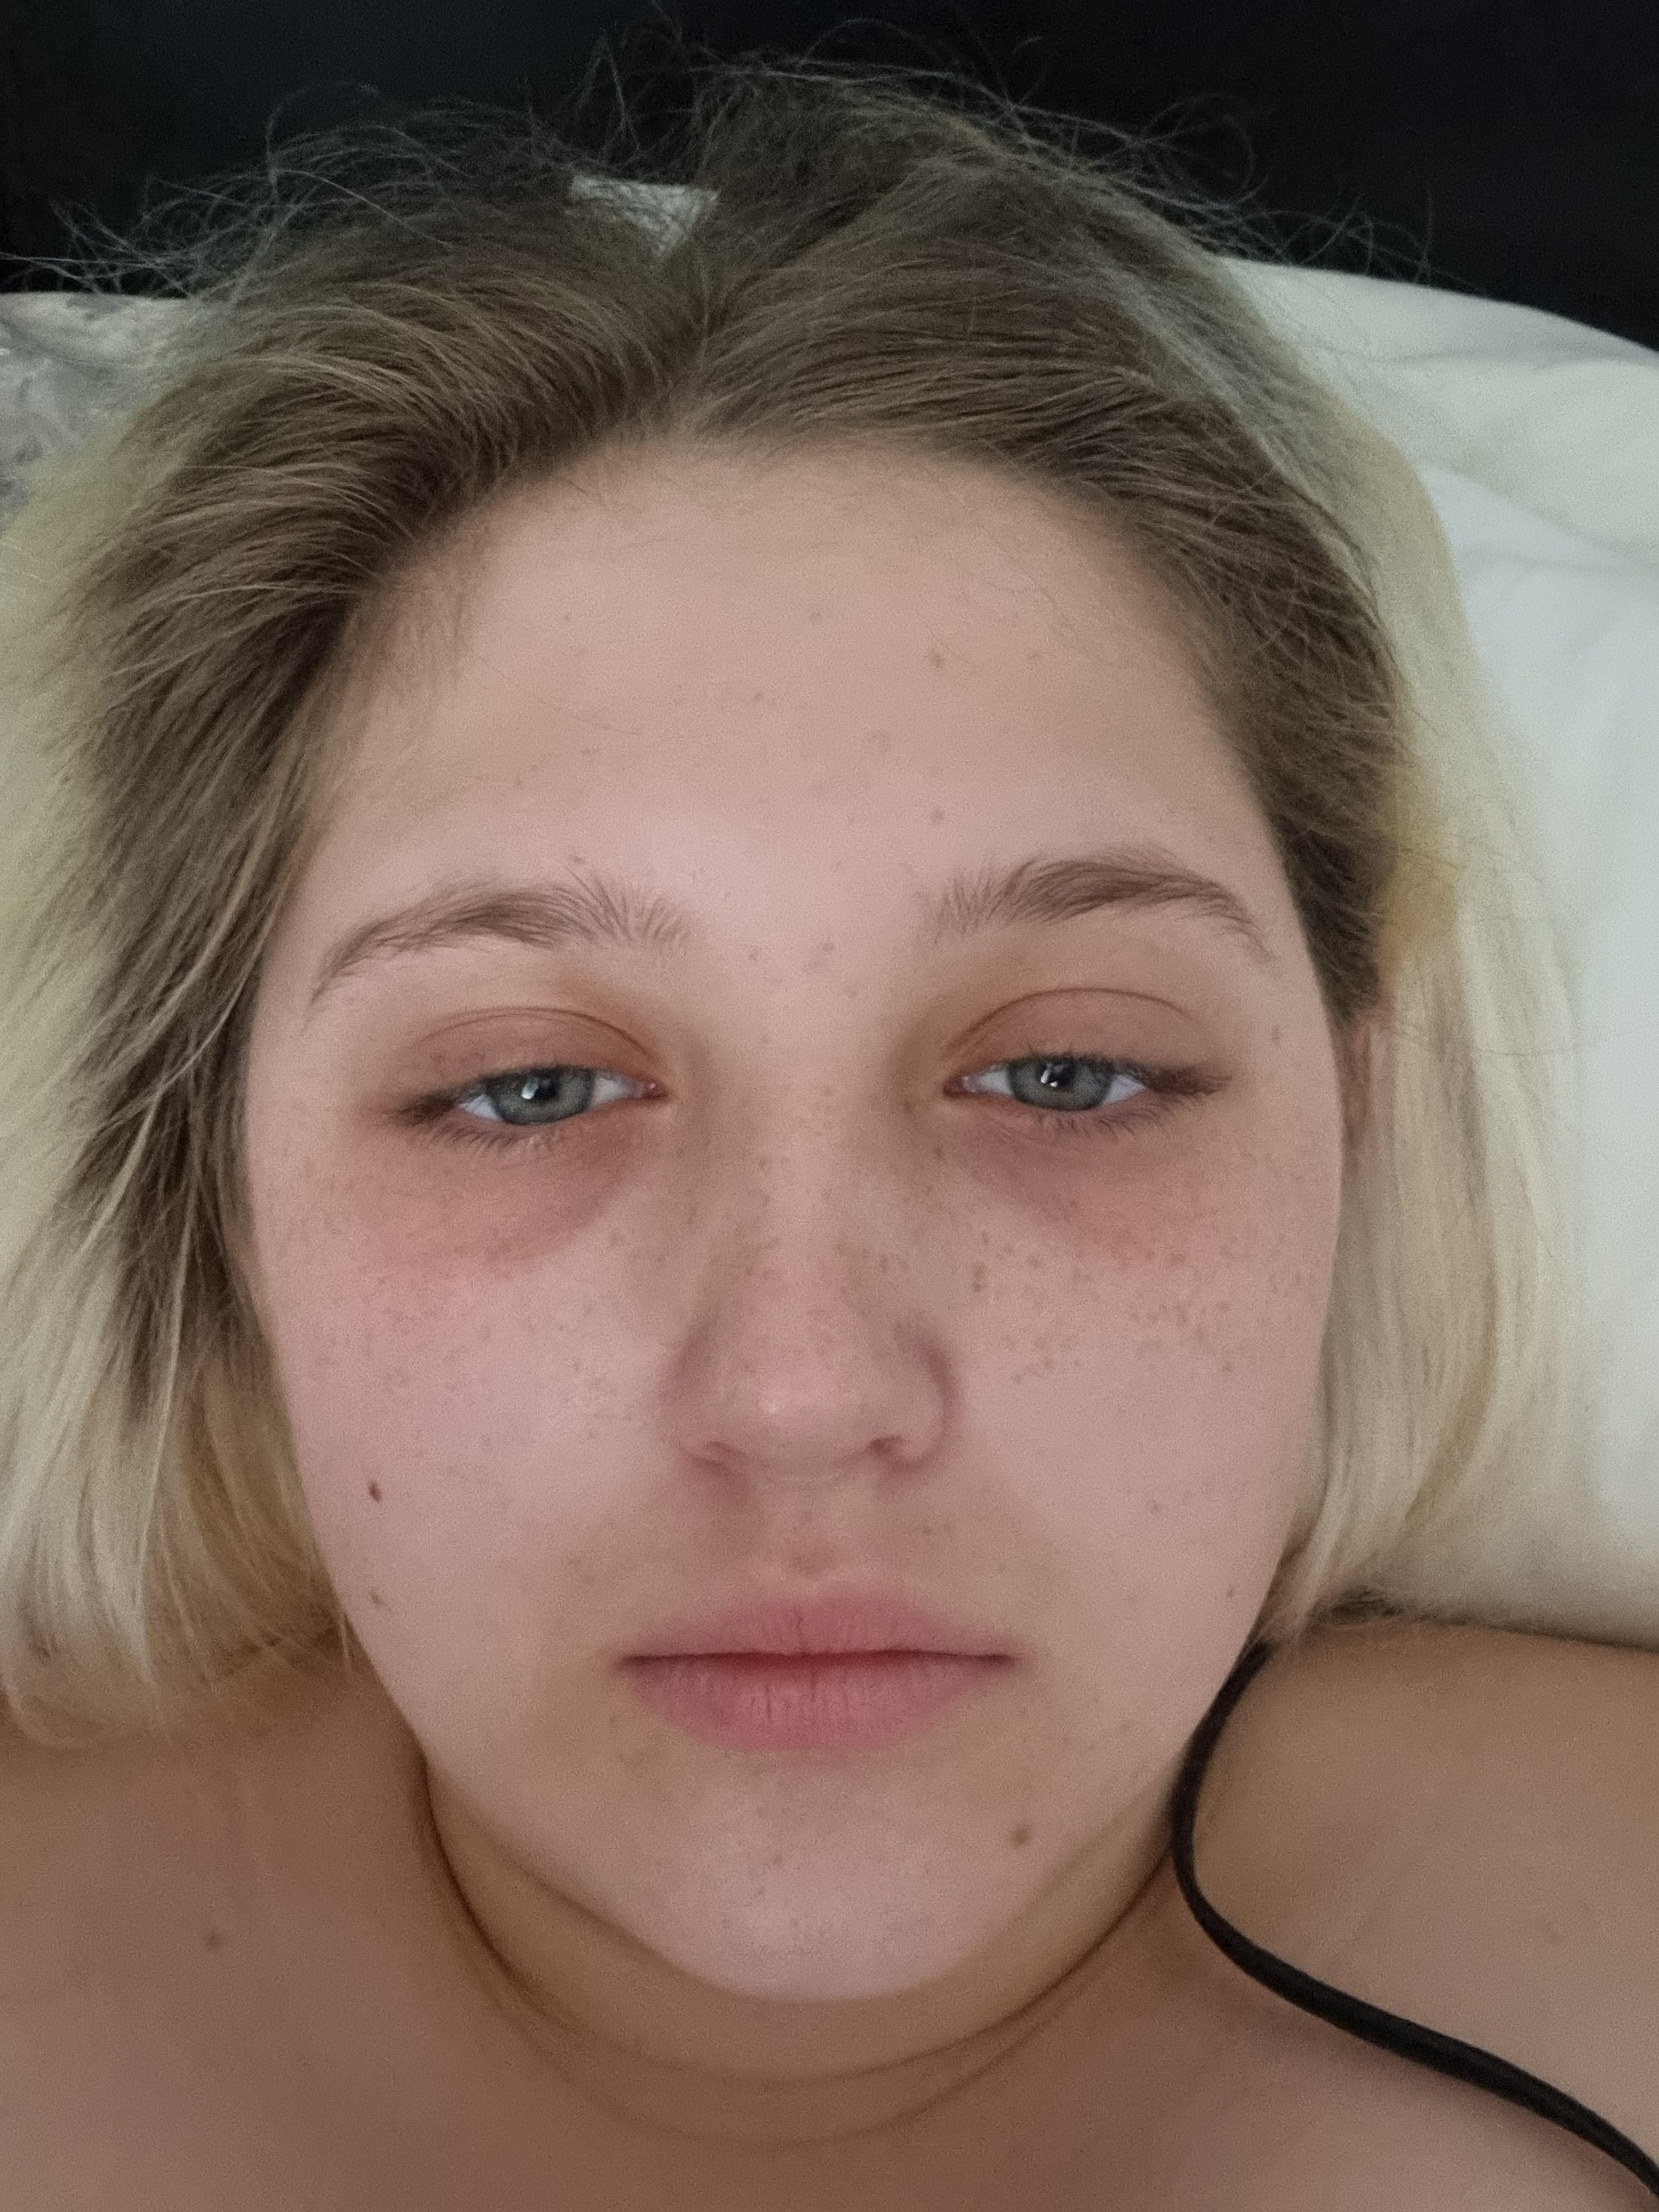Eyebags: (356, 1092, 671, 1268), (934, 1083, 1229, 1247)
